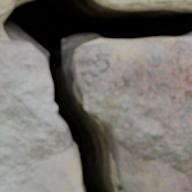broken_brick: (77, 38, 191, 191), (0, 39, 81, 191)
crack: (0, 0, 191, 191)
